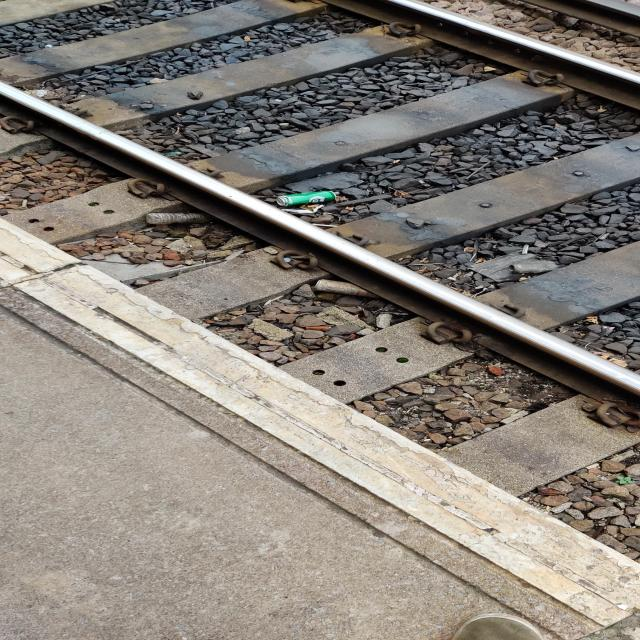litter: (258, 187, 358, 217)
